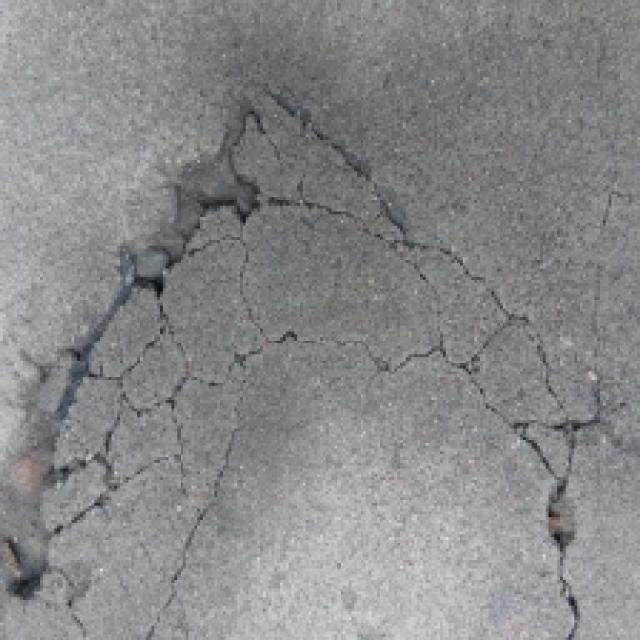SurfaceCrack: (18, 72, 602, 640)
